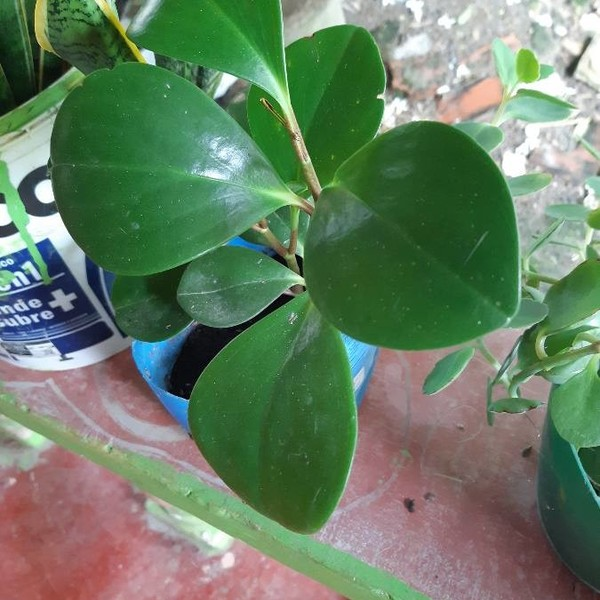obstacle: (97, 48, 529, 507)
